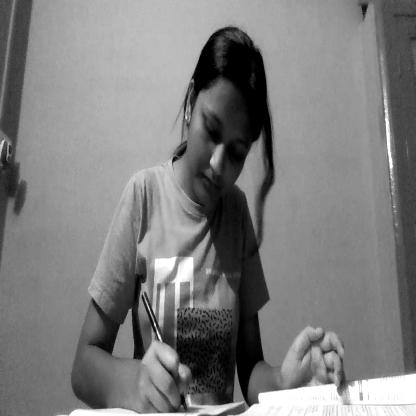Distracted: (181, 33, 275, 236)
